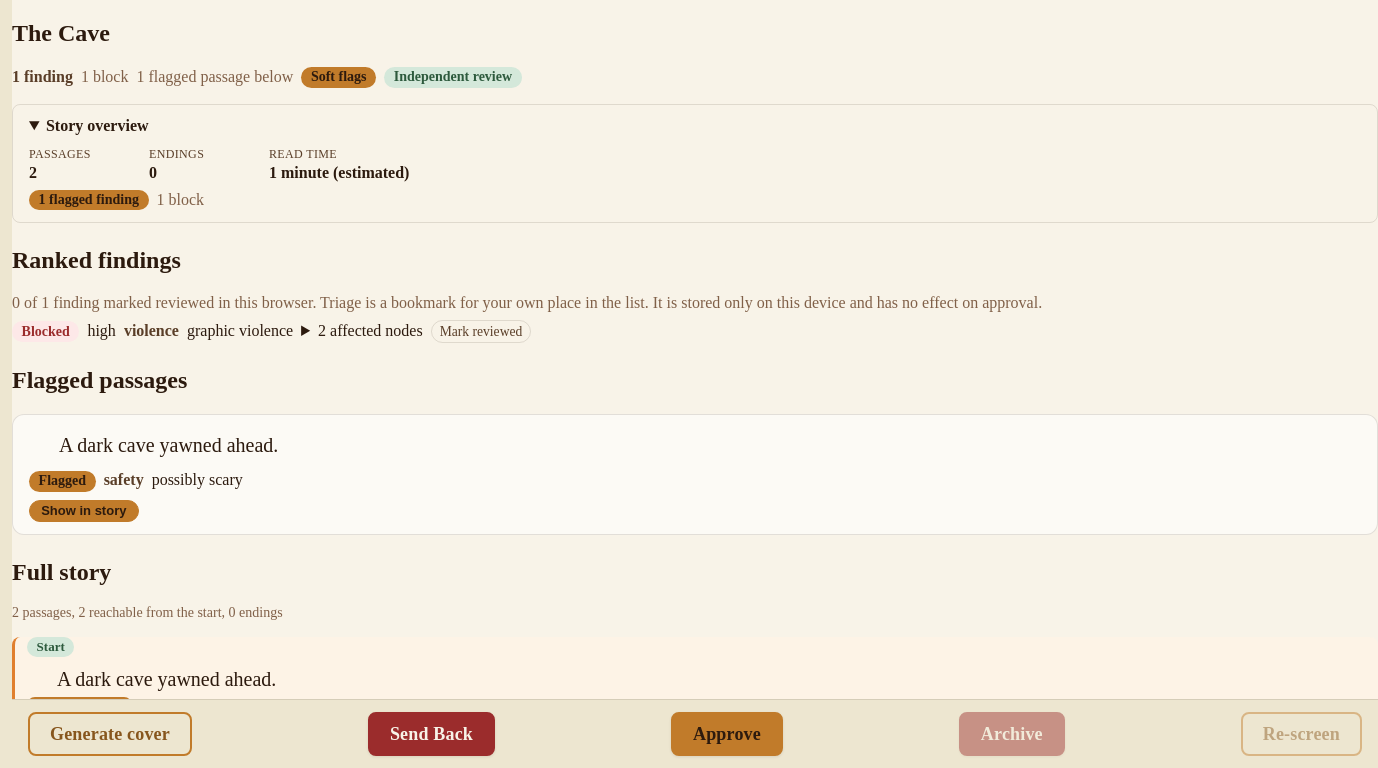
Test: ReviewDetailPage › Stage B3 decision surfaces (design doc 2.6) › renders ranked findings with a severity pill and an on-demand node drill-down
Expected: the heading "Ranked findings" is shown, x1=12 y1=247 x2=181 y2=273
Expected: the text "graphic violence" is shown, x1=187 y1=322 x2=293 y2=340
What coordinates should you click on to do the following:
click the heading "2 affected nodes"
I would click on:
 (362, 331)
Its box is x1=301 y1=322 x2=423 y2=340.
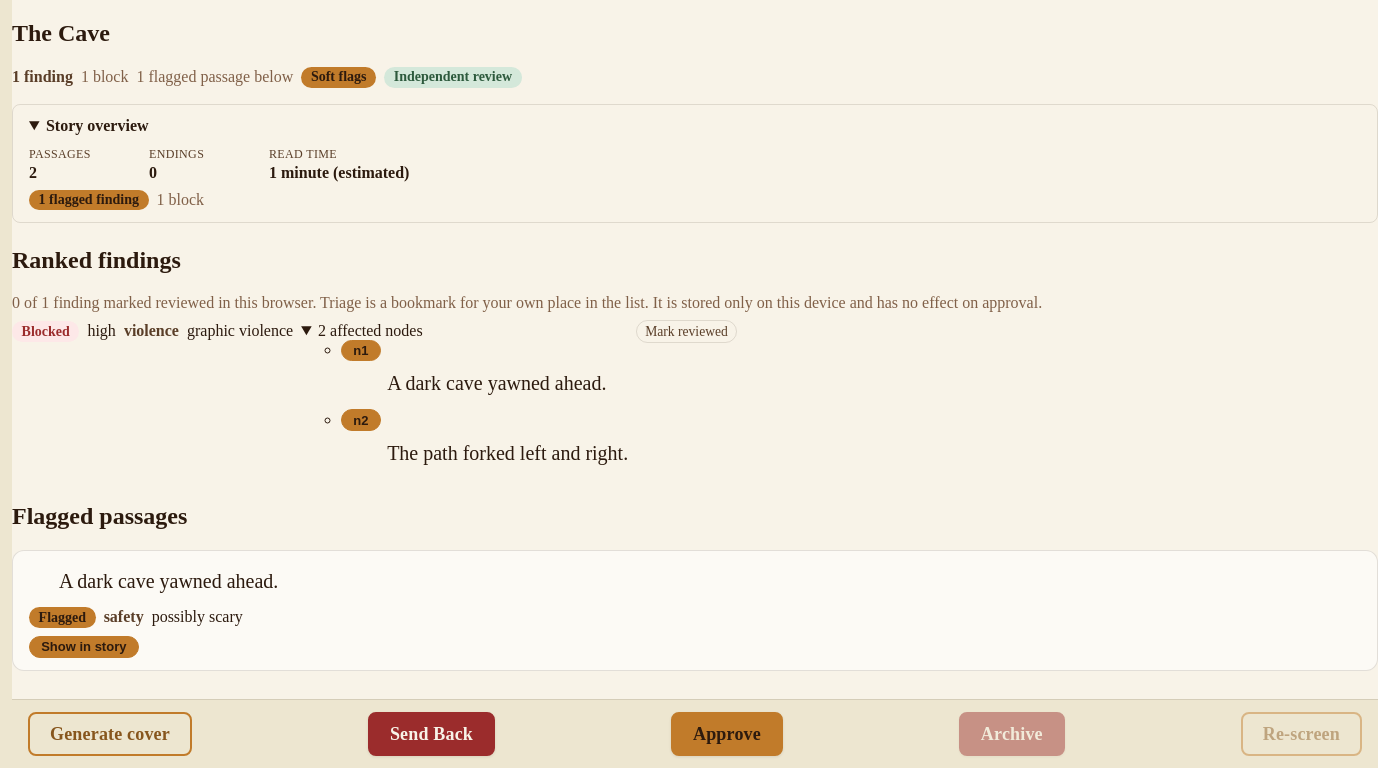
Now the button "n1" is shown, box x1=341 y1=340 x2=381 y2=362
Now the button "n2" is shown, box x1=341 y1=410 x2=381 y2=431
